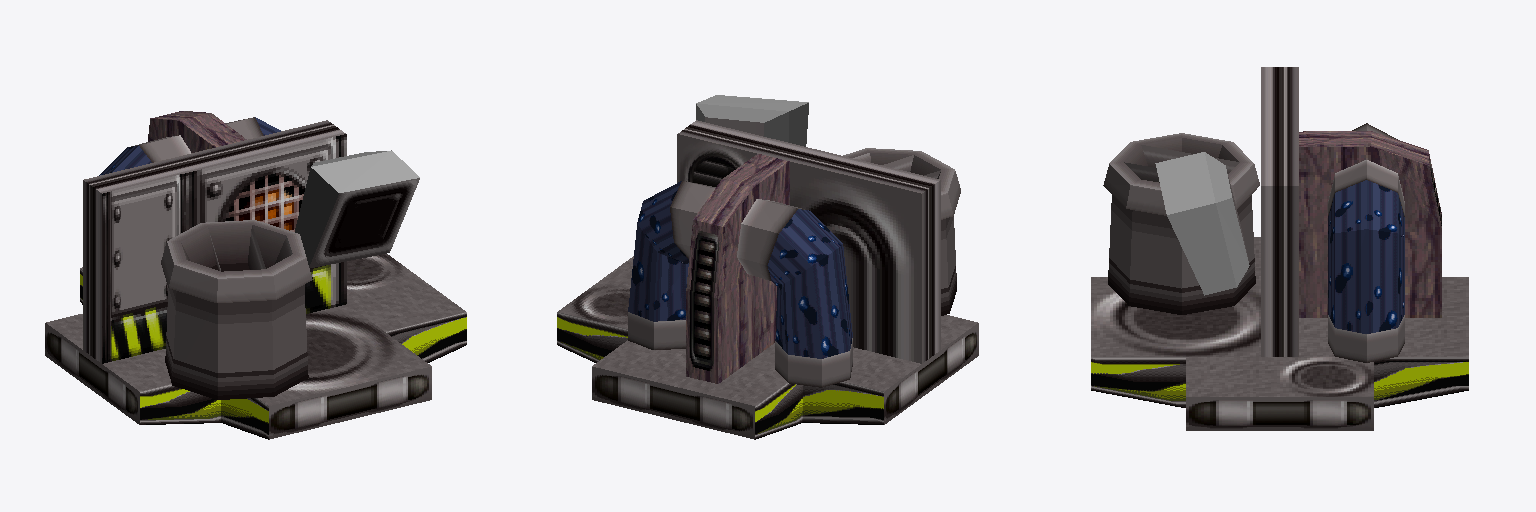
The picture shows the model from 3 angles: view 1: azimuth 30°, elevation 25°; view 2: azimuth 150°, elevation 25°; view 3: azimuth 270°, elevation 25°; orthographic projection.
Parts seen in each view (by area): view 1: Dec1; view 2: Dec1; view 3: Dec1.
Boxes of the visible parts, x1=… form: Dec1: x1=45, y1=111, x2=466, y2=439; Dec1: x1=557, y1=95, x2=978, y2=439; Dec1: x1=1091, y1=67, x2=1468, y2=430.
Bounding box in the file's own units: 5 × 3.29 × 5.
Materials: 3 (3 with a texture image).